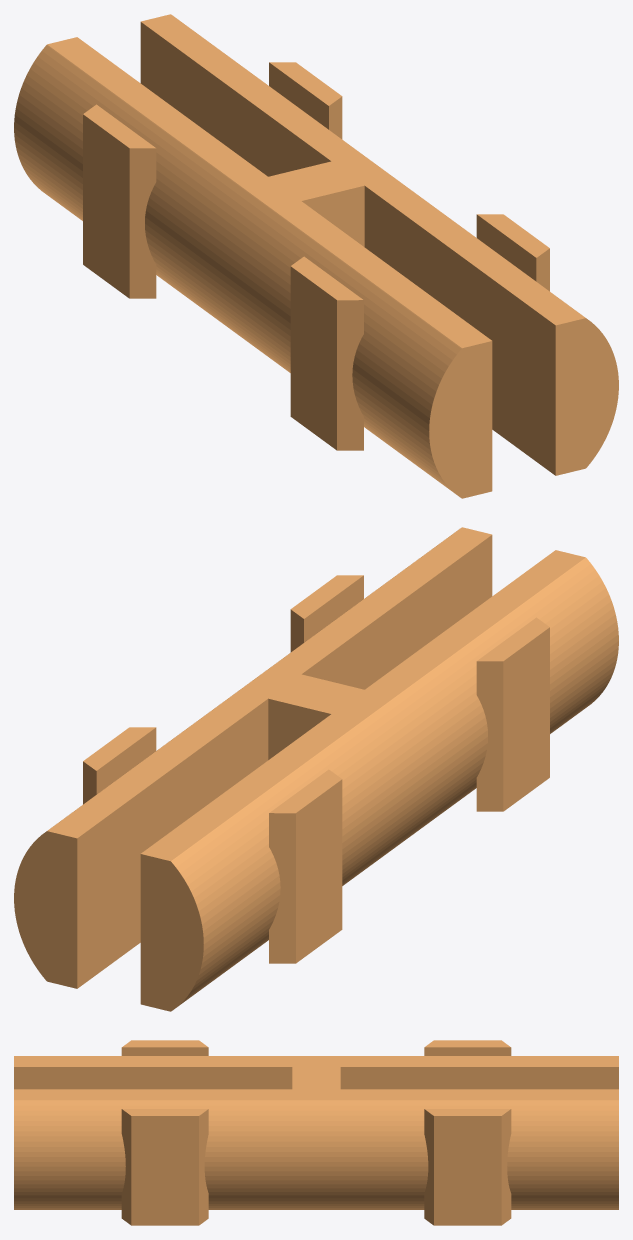
Rendered from pin-friction.glb.
3 renders of one model, top to bottom at view 1: azimuth 30°, elevation 25°; view 2: azimuth 150°, elevation 25°; view 3: azimuth 270°, elevation 25°, orthographic. The views are drawn at different scales.
Parts seen in each view (by area): view 1: pin-friction; view 2: pin-friction; view 3: pin-friction.
Part boxes in pixels (x1,y1,x2,y2): pin-friction: [14, 14, 618, 498]; pin-friction: [14, 527, 618, 1011]; pin-friction: [14, 1040, 618, 1225].
Bounding box in the file's own units: 0.0074 × 0.005 × 0.025.
